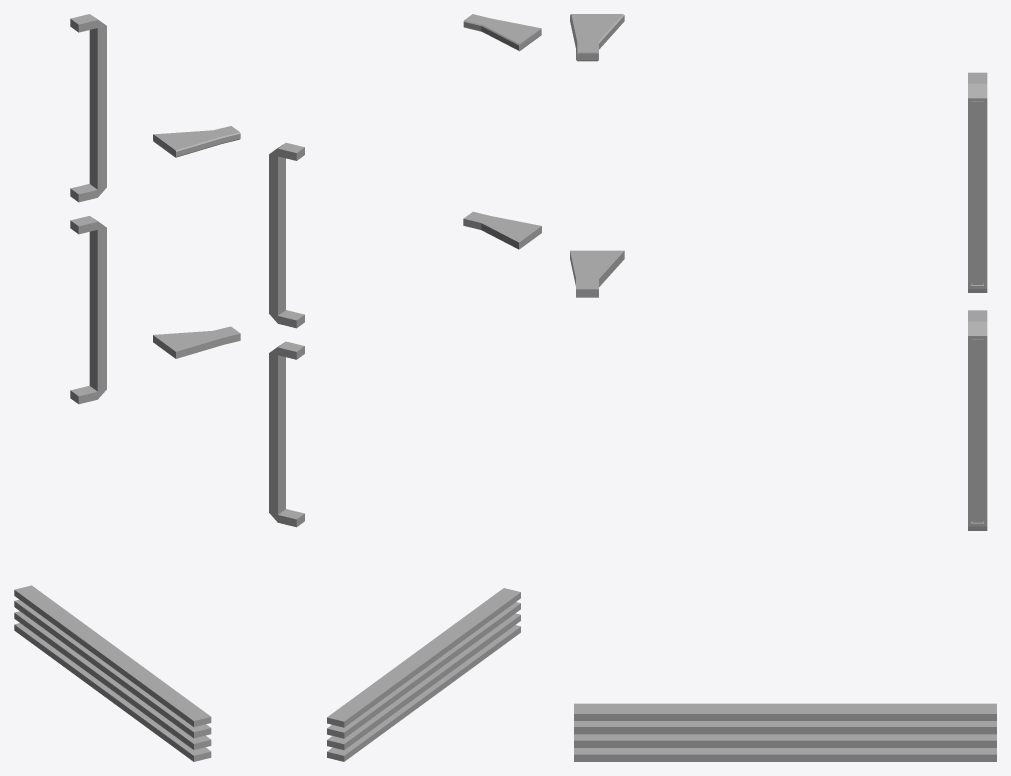
The model's file is kitchen-grey70plastic.obj.
The picture shows the model from 3 angles, left to right: view 1: azimuth 30°, elevation 25°; view 2: azimuth 150°, elevation 25°; view 3: azimuth 270°, elevation 25°; orthographic projection. The views are drawn at different scales.
Visible parts, largest first — view 1: fridge_Cube.017; view 2: fridge_Cube.017; view 3: fridge_Cube.017.
Part boxes in pixels (x1=…): fridge_Cube.017: x1=14, y1=14, x2=240, y2=761; fridge_Cube.017: x1=269, y1=14, x2=541, y2=761; fridge_Cube.017: x1=570, y1=14, x2=996, y2=761.
Size of the model in its own units: 0.79 by 4.63 by 2.47.
Materials: 1 (1 with a texture image).
